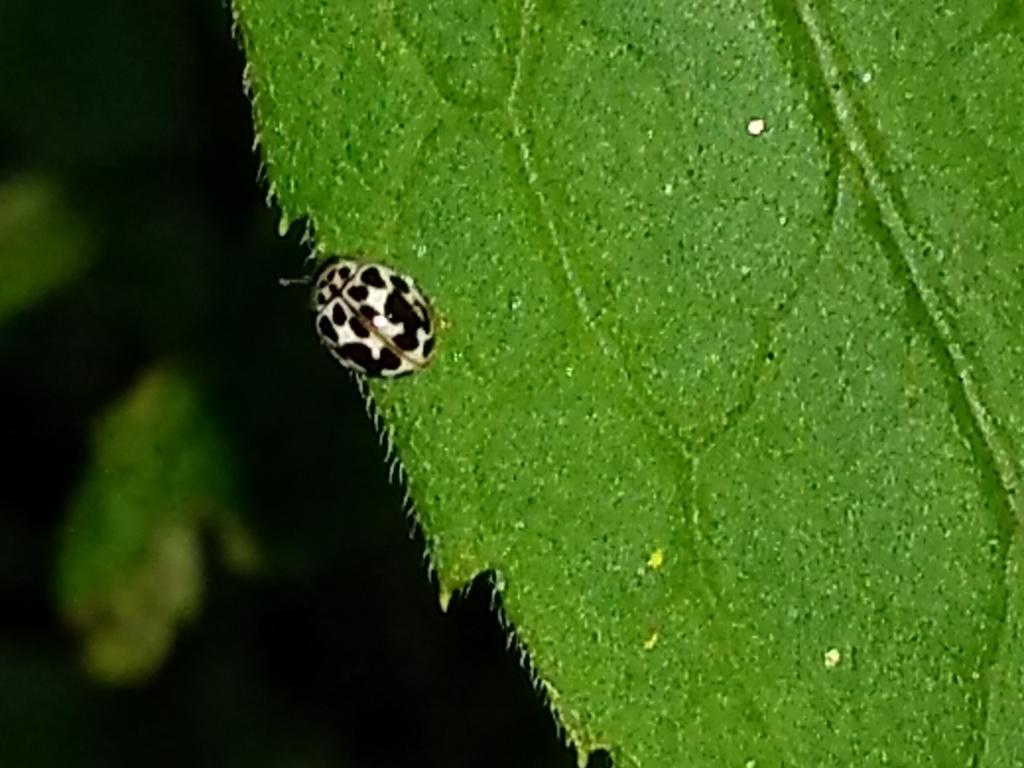ladybug: (275, 245, 445, 383)
